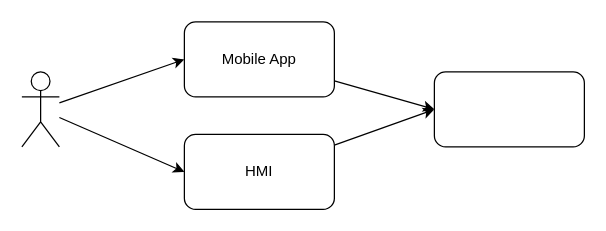
The diagram is 606 pixels wide and 231 high, and some of its shapes have lost their labels. Here are the shapes that lost their labels. From the top down, the centre of each, then its label:
the point at 40,109: User
the point at 508,109: Smart Climate Control
